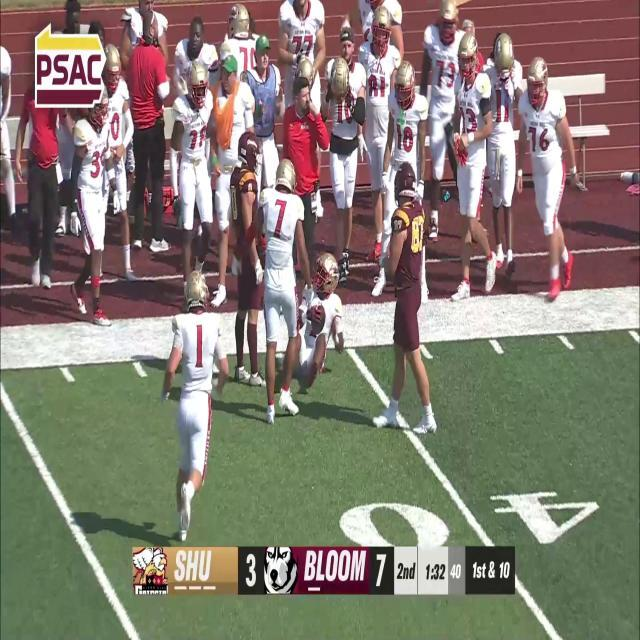football: (310, 305, 328, 334)
